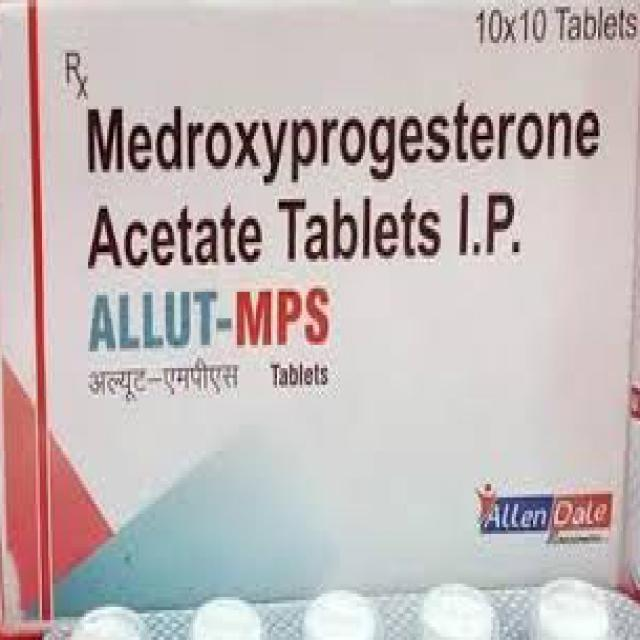drug-name: (86, 282, 330, 353)
